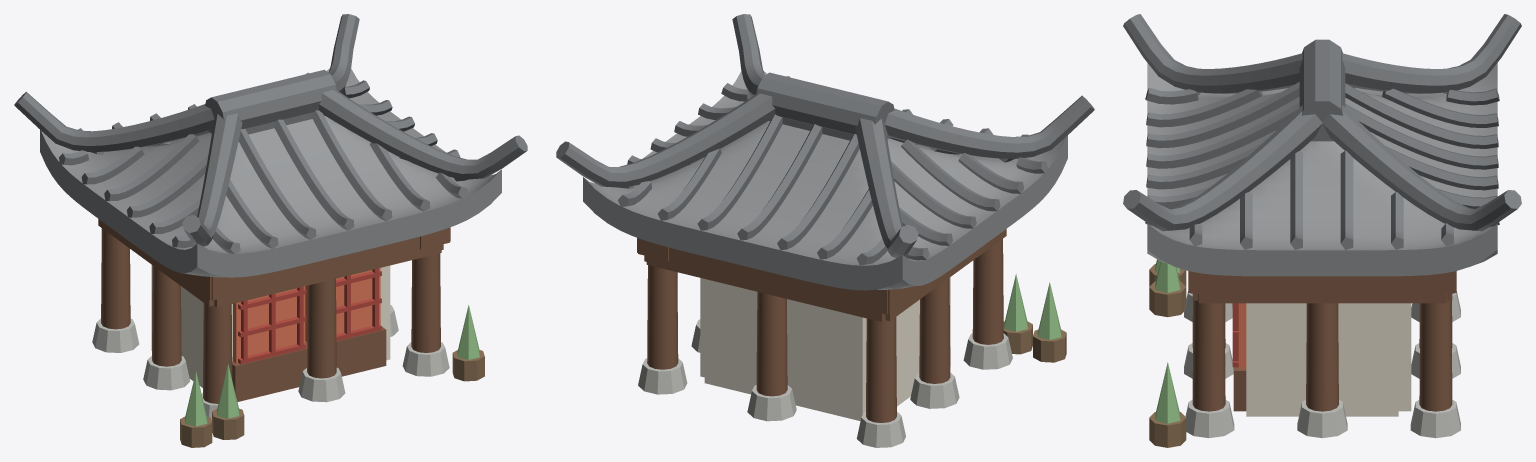
File: SonMon_forester.fbx
The picture shows the model from 3 angles, left to right: view 1: azimuth 30°, elevation 25°; view 2: azimuth 150°, elevation 25°; view 3: azimuth 270°, elevation 25°; orthographic projection. The views are drawn at different scales.
Parts seen in each view (by area): view 1: forester; view 2: forester; view 3: forester.
Boxes of the visible parts, x1,y1,x2,y2 form: forester: [14, 14, 527, 447]; forester: [556, 14, 1094, 447]; forester: [1123, 14, 1521, 447].
Bounding box in the file's own units: 2.14 × 1.6 × 1.93.
